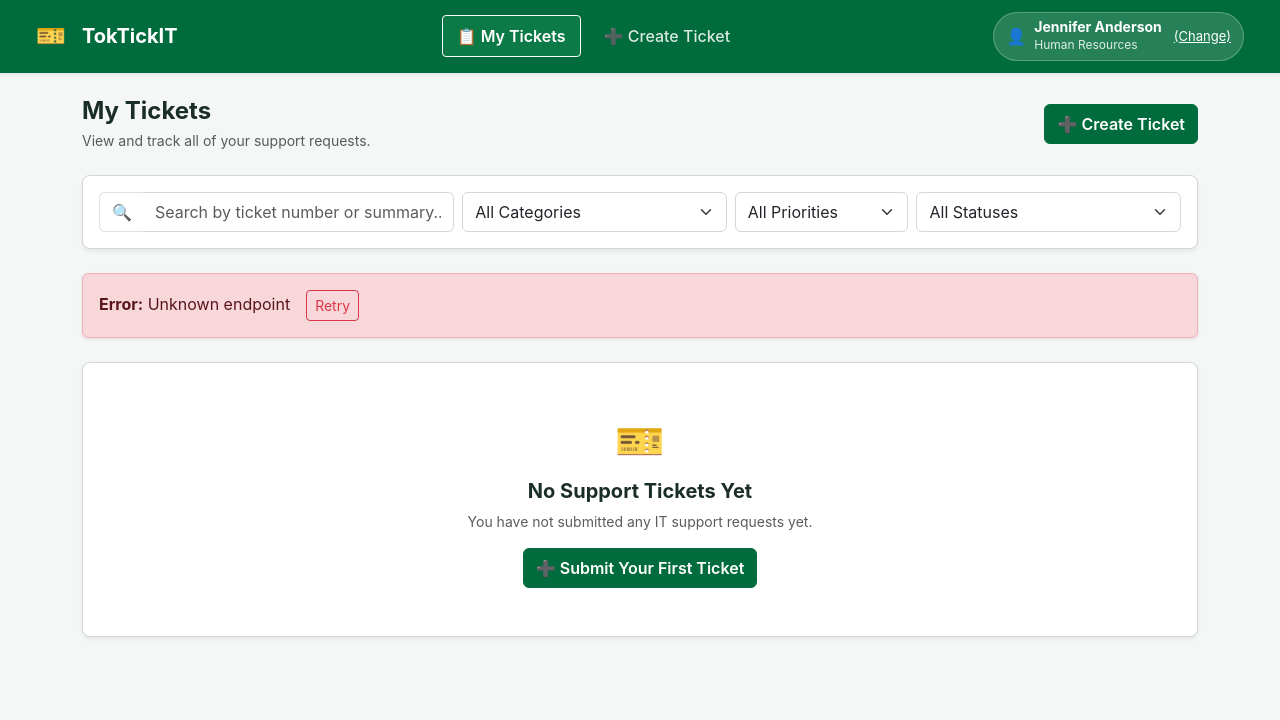
Test: Development Requester Selection Workflow › allows switching requester context via Change button in navbar
Check: the heading "Select Development Requester" is not shown
Check: the text "Jennifer Anderson" is shown, box [1034,19,1162,36]
# Click Change button
Click the button with test id "change-requester-btn": {"x": 1202, "y": 36} [1174,27,1231,46]
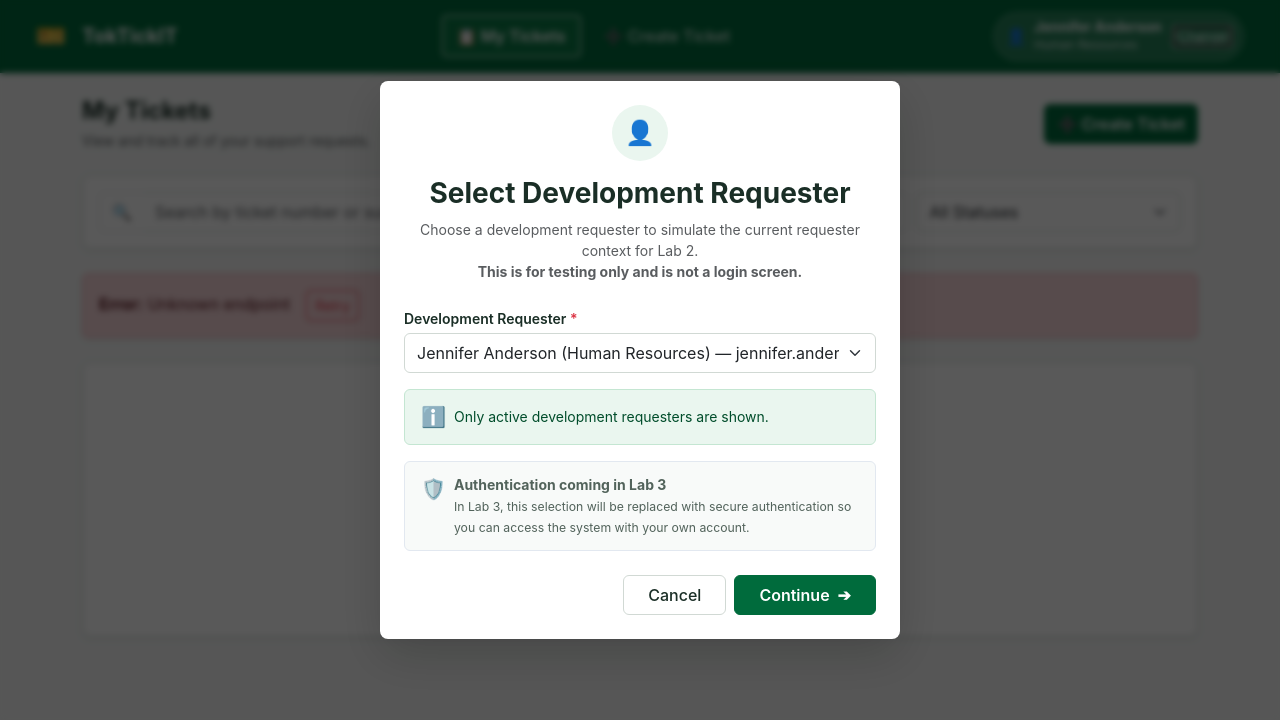
Check: the heading "Select Development Requester" is shown, box [404,177,876,211]
